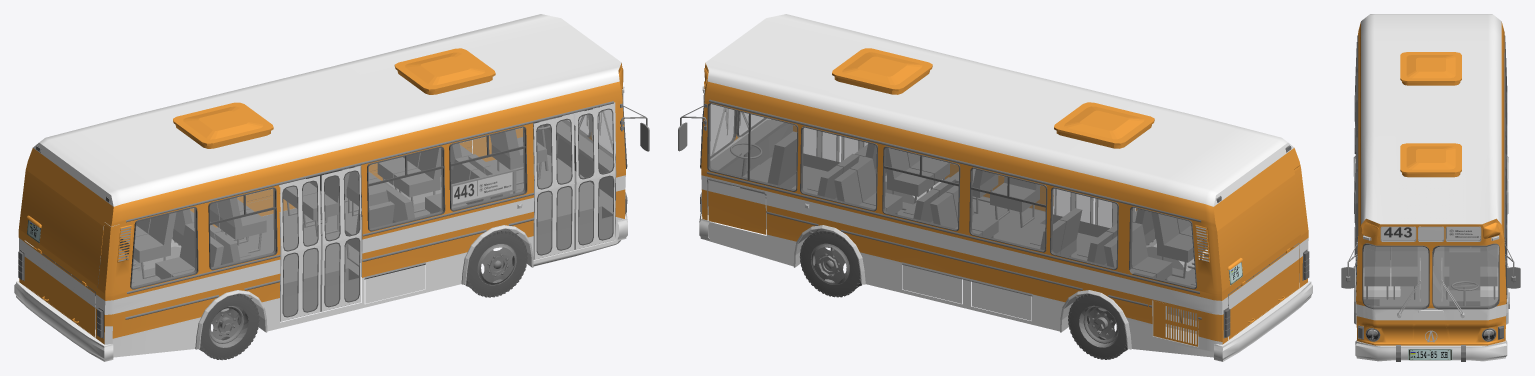
Rendered from BusLaz42021Exported.fbx.
3 views of the same model, side by side, from view 1: azimuth 30°, elevation 25°; view 2: azimuth 150°, elevation 25°; view 3: azimuth 270°, elevation 25° (orthographic). The views are drawn at different scales.
Visible parts, largest first — view 1: KUZOV, steklo, SALON, Group35, koleso, ChamferBox, ChamferBo0, Plane01; view 2: KUZOV, steklo, SALON, Group35, koleso, ChamferBox, ChamferBo0; view 3: KUZOV, steklo, SALON, Group35, ChamferBox, ChamferBo0, Plane01, Box11, zerkalo, NOMERA det.
Part boxes in pixels (x1,y1,x2,y2): KUZOV: (14,14,649,361); steklo: (132,102,615,316); SALON: (42,117,616,329); Group35: (119,86,627,349); koleso: (199,228,527,360); ChamferBox: (394,48,495,94); ChamferBo0: (173,102,273,148); Plane01: (451,169,516,206); KUZOV: (699,14,1312,361); steklo: (709,104,1195,287); SALON: (707,119,1285,334); Group35: (700,86,1208,349); koleso: (799,229,1127,359); ChamferBox: (832,48,932,94); ChamferBo0: (1054,102,1154,148); KUZOV: (1341,14,1507,361); steklo: (1363,227,1498,307); SALON: (1363,244,1498,306); Group35: (1353,42,1508,327); ChamferBox: (1400,143,1461,177); ChamferBo0: (1400,52,1461,85); Plane01: (1381,227,1480,240); Box11: (1408,349,1452,360); zerkalo: (1504,242,1520,288); NOMERA det: (1381,239,1479,241).
Size of the model in its own units: 7.25 by 2.55 by 2.46.
14 materials, 4 textured.
